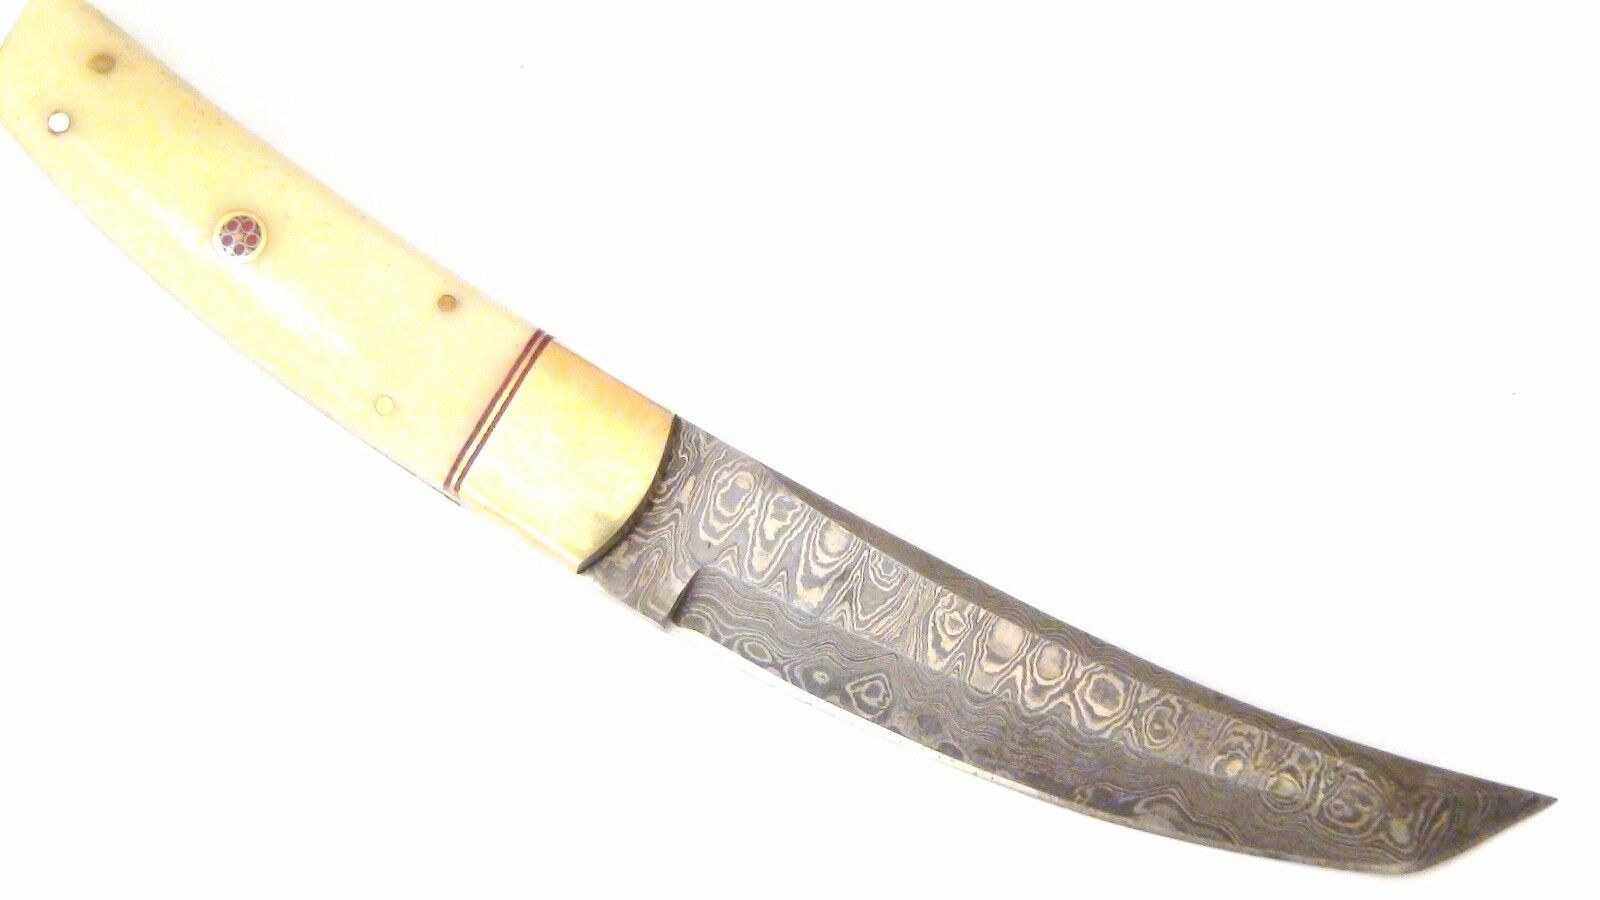knief: (75, 38, 1568, 881)
